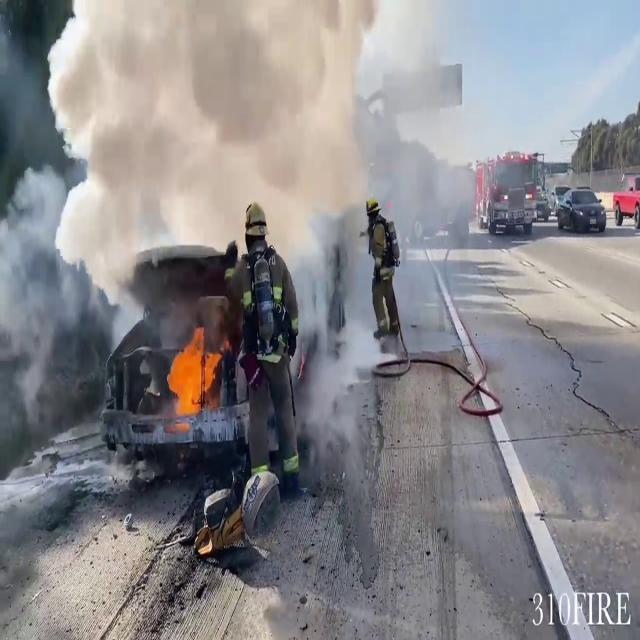Fire: (163, 319, 225, 421)
Smoke: (0, 0, 387, 320), (0, 146, 117, 410)
